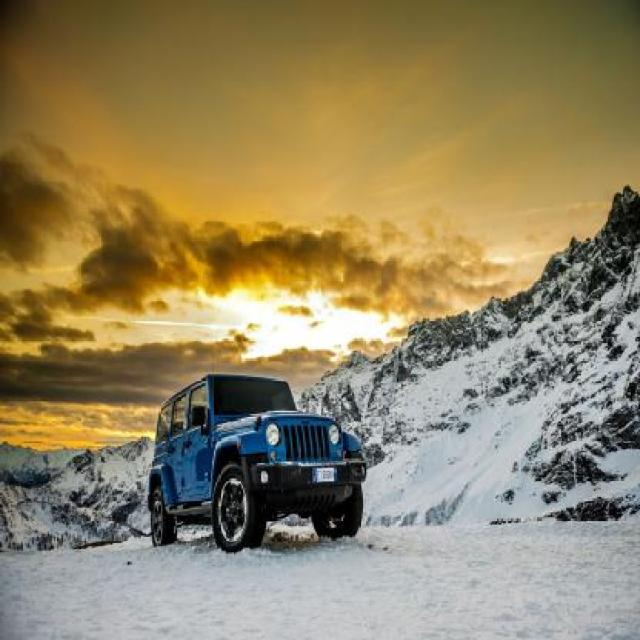Jeep: (145, 375, 369, 550)
